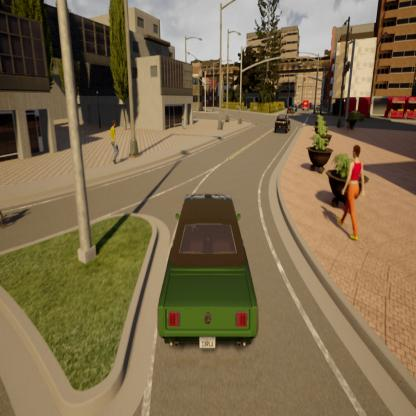Cars: (147, 190, 277, 354), (268, 107, 295, 145), (288, 98, 300, 117), (302, 98, 311, 115)
Pedestrian: (334, 131, 374, 251), (104, 112, 123, 169)
